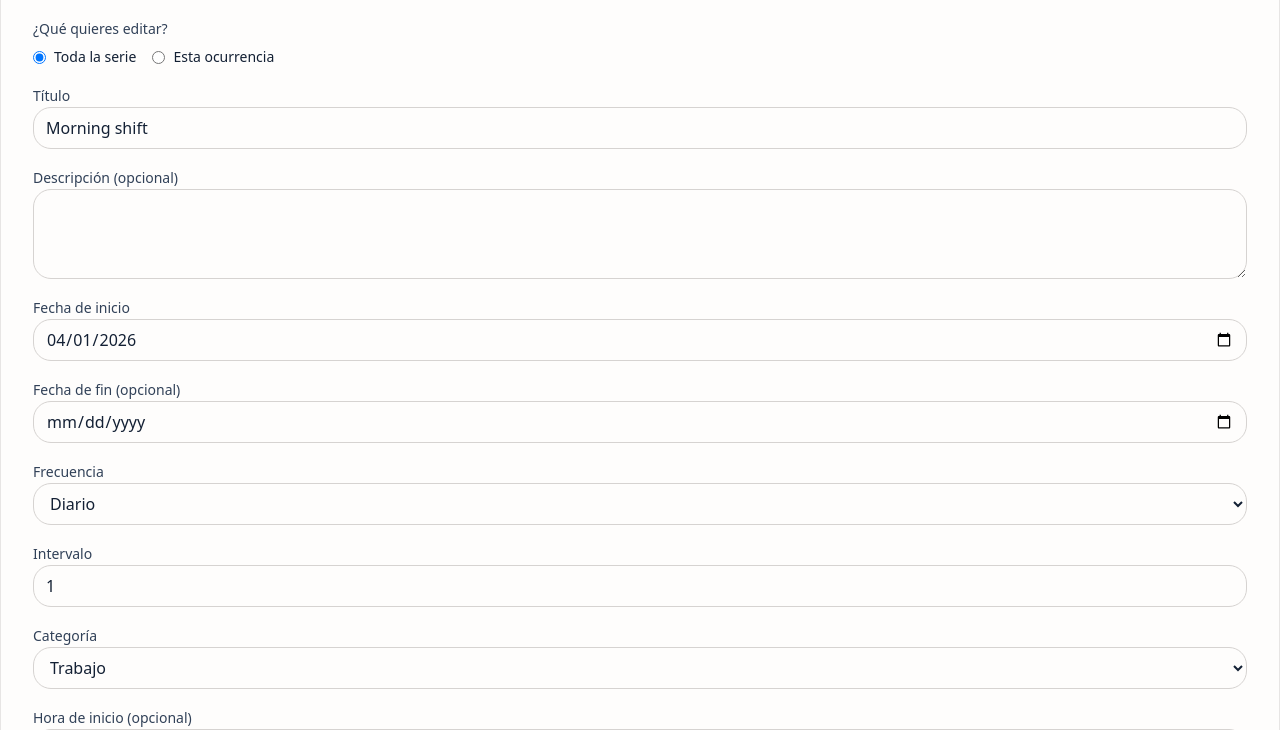
Test: EditEventForm › Recurring event - confirmation dialog when deleting exceptions › should open the confirmation dialog when startDate changed and hasExceptions is true
Type "2026-05-01" into the date field labelled "Fecha de inicio" at [640, 340], box [33,319,1247,361]
(page scrolled)
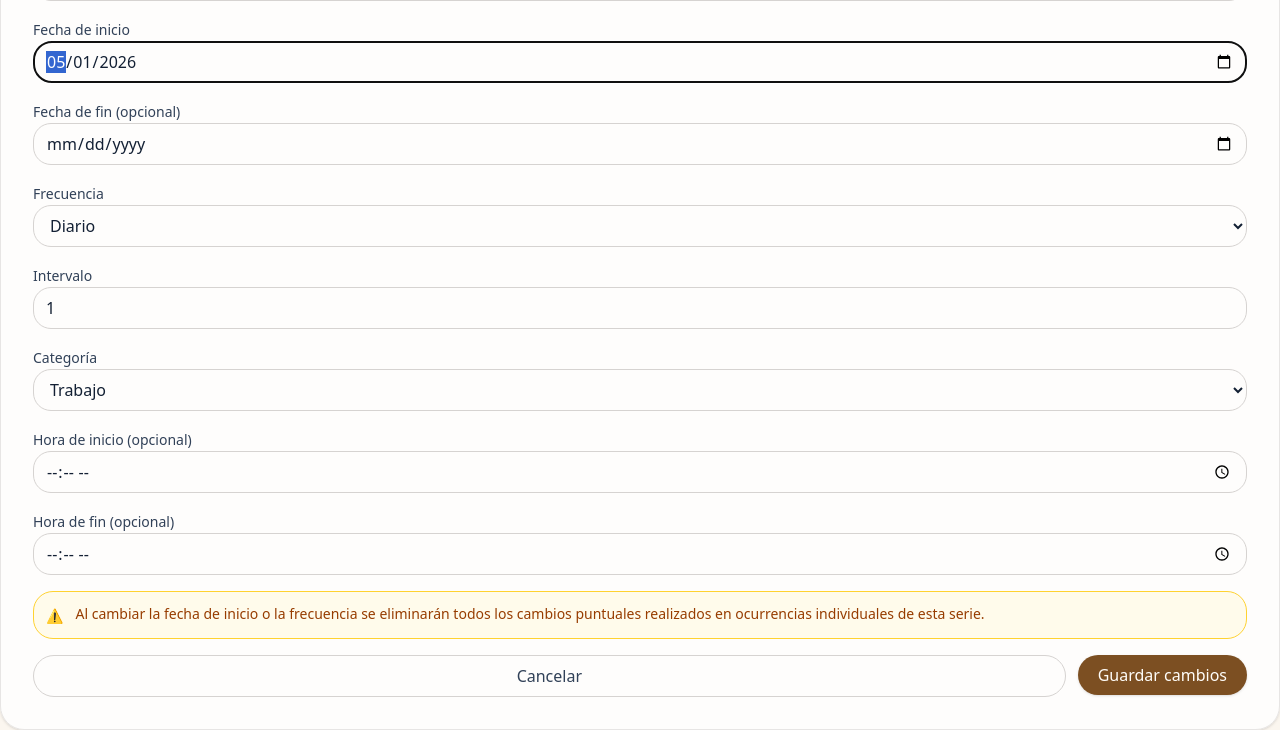
Click the button "Guardar cambios" at [1162, 675], box [1078,655,1247,695]
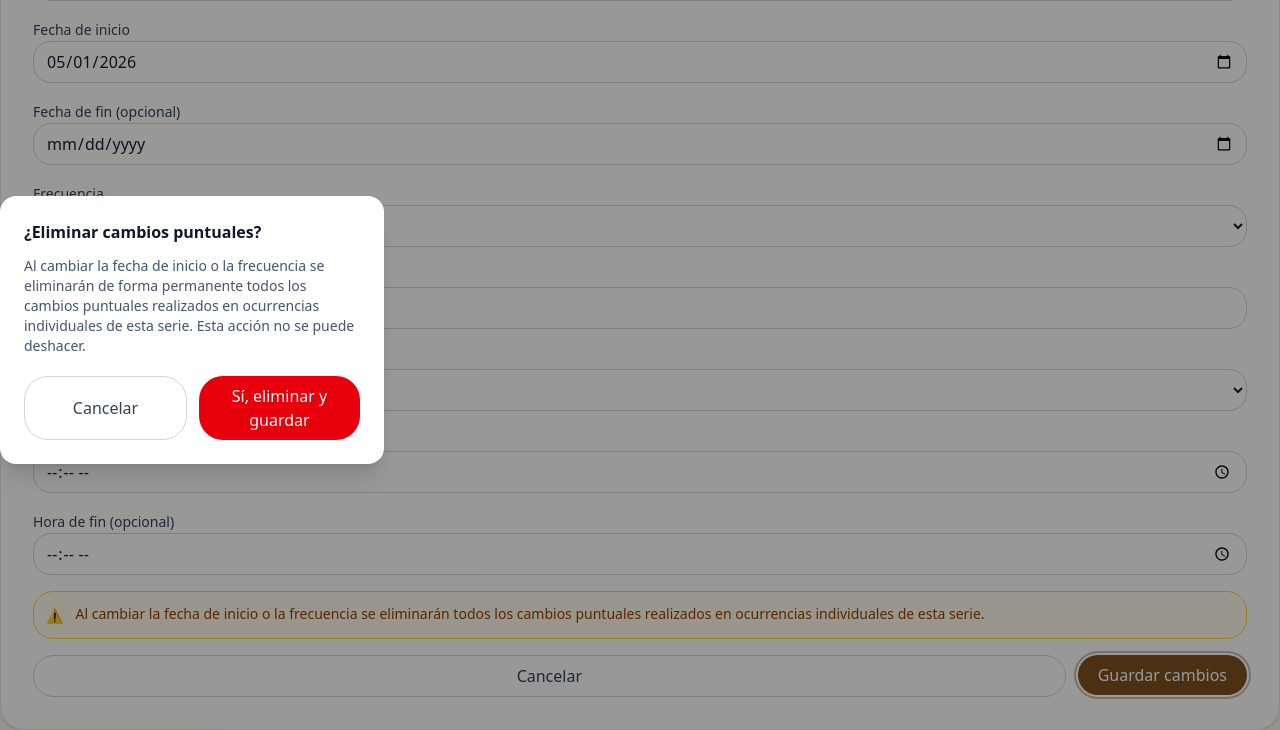
Check: the dialog is shown, box [0,196,384,464]
Check: the heading "¿Eliminar cambios puntuales?" is shown, box [24,221,261,243]
